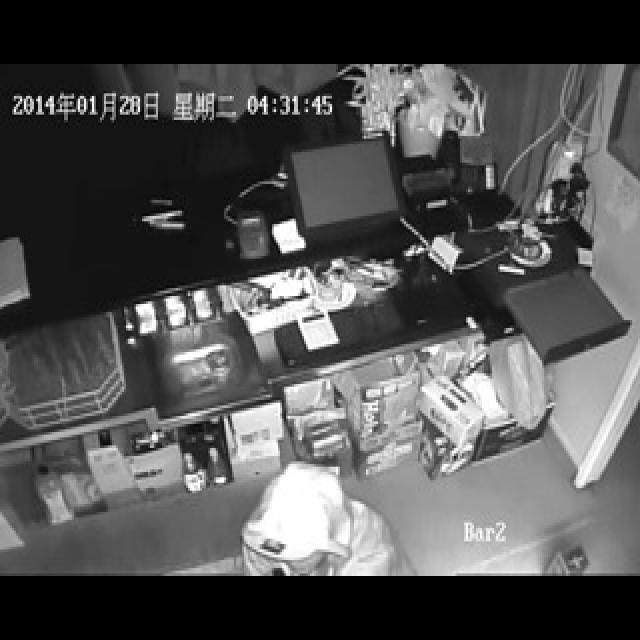thief: (234, 462, 416, 578)
